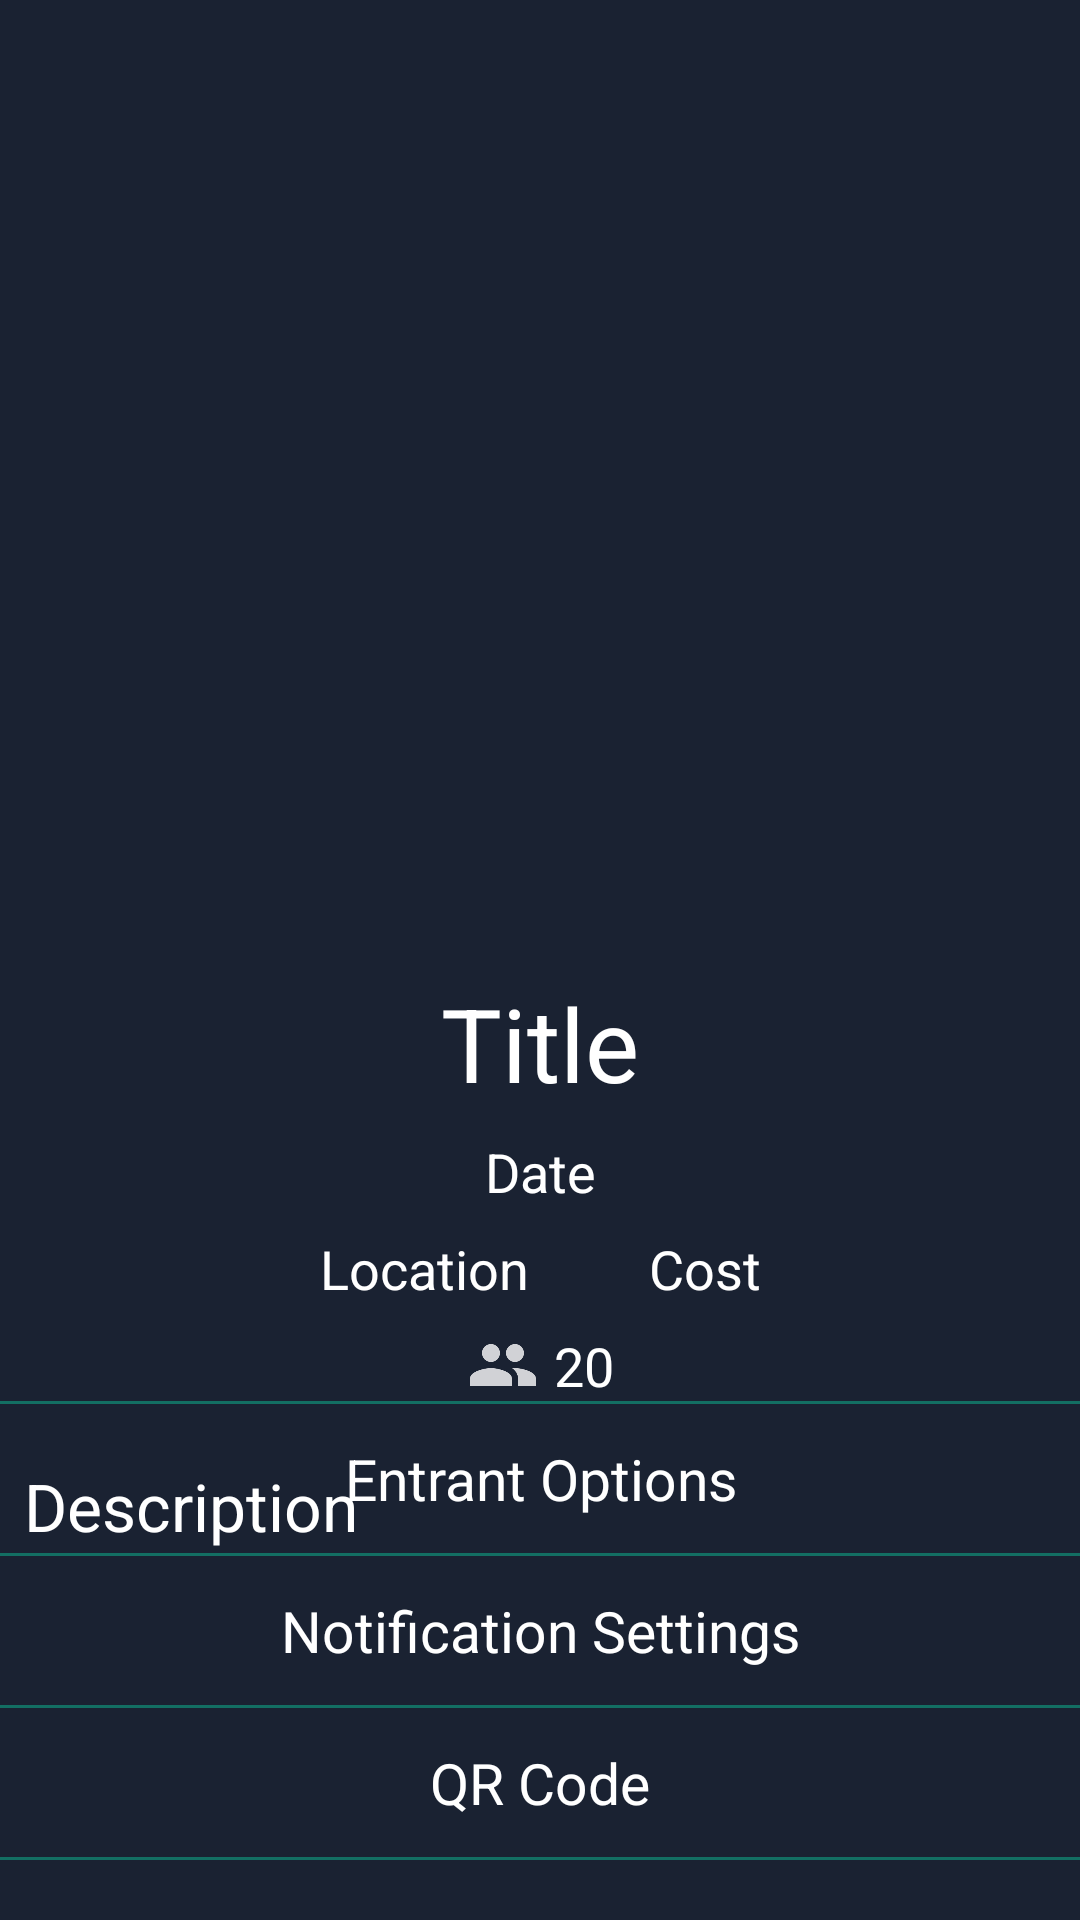

Point at icon controls on the screen. Image size 1080x1920, points as [x,y].
Icon depicting a group of people: [503,1365]
